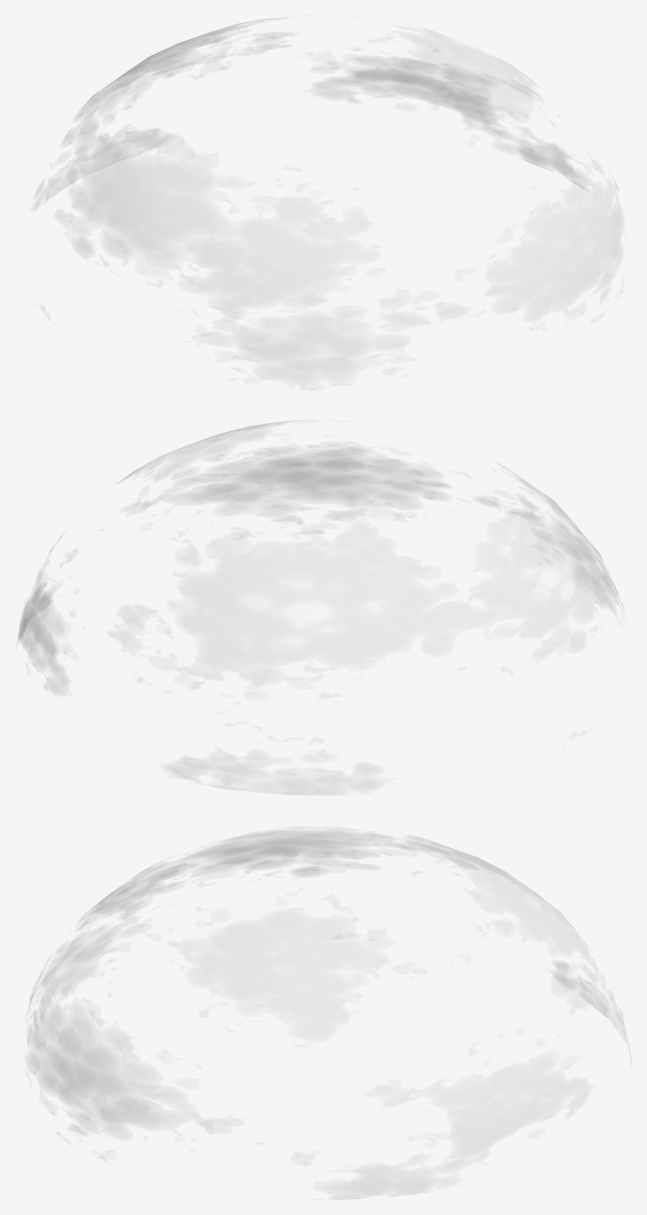
Rendered from sky-2.gltf.
3 views of the same model, one above another, from view 1: azimuth 30°, elevation 25°; view 2: azimuth 150°, elevation 25°; view 3: azimuth 270°, elevation 25° (orthographic).
Visible parts, largest first — view 1: Clouds; view 2: Clouds; view 3: Clouds.
Part boxes in pixels (left/top/right/bottom): Clouds: left=35, top=18, right=622, bottom=384; Clouds: left=17, top=420, right=622, bottom=794; Clouds: left=28, top=829, right=631, bottom=1199.
Size of the model in its own units: 758 by 281 by 758.
1 material, 1 textured.
